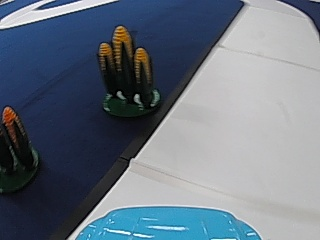corn: (94, 22, 162, 119), (0, 105, 39, 191)
